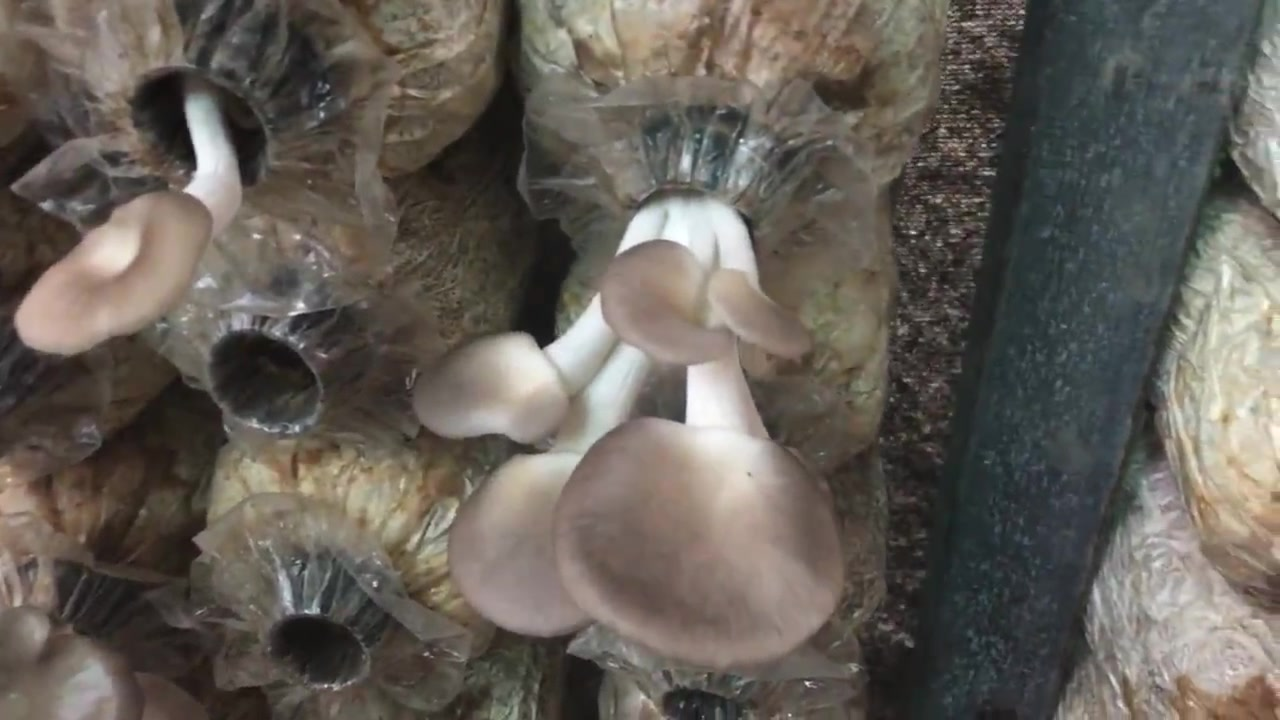nam: (411, 131, 841, 670), (13, 35, 302, 356)
